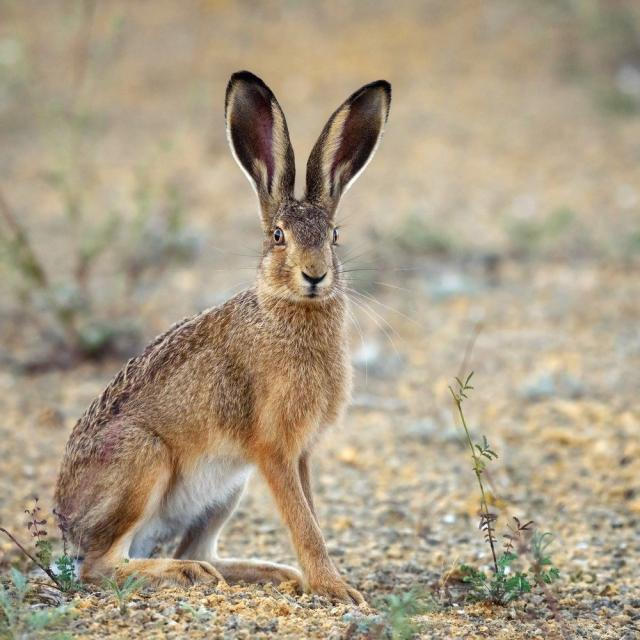Hare: (54, 55, 402, 598)
